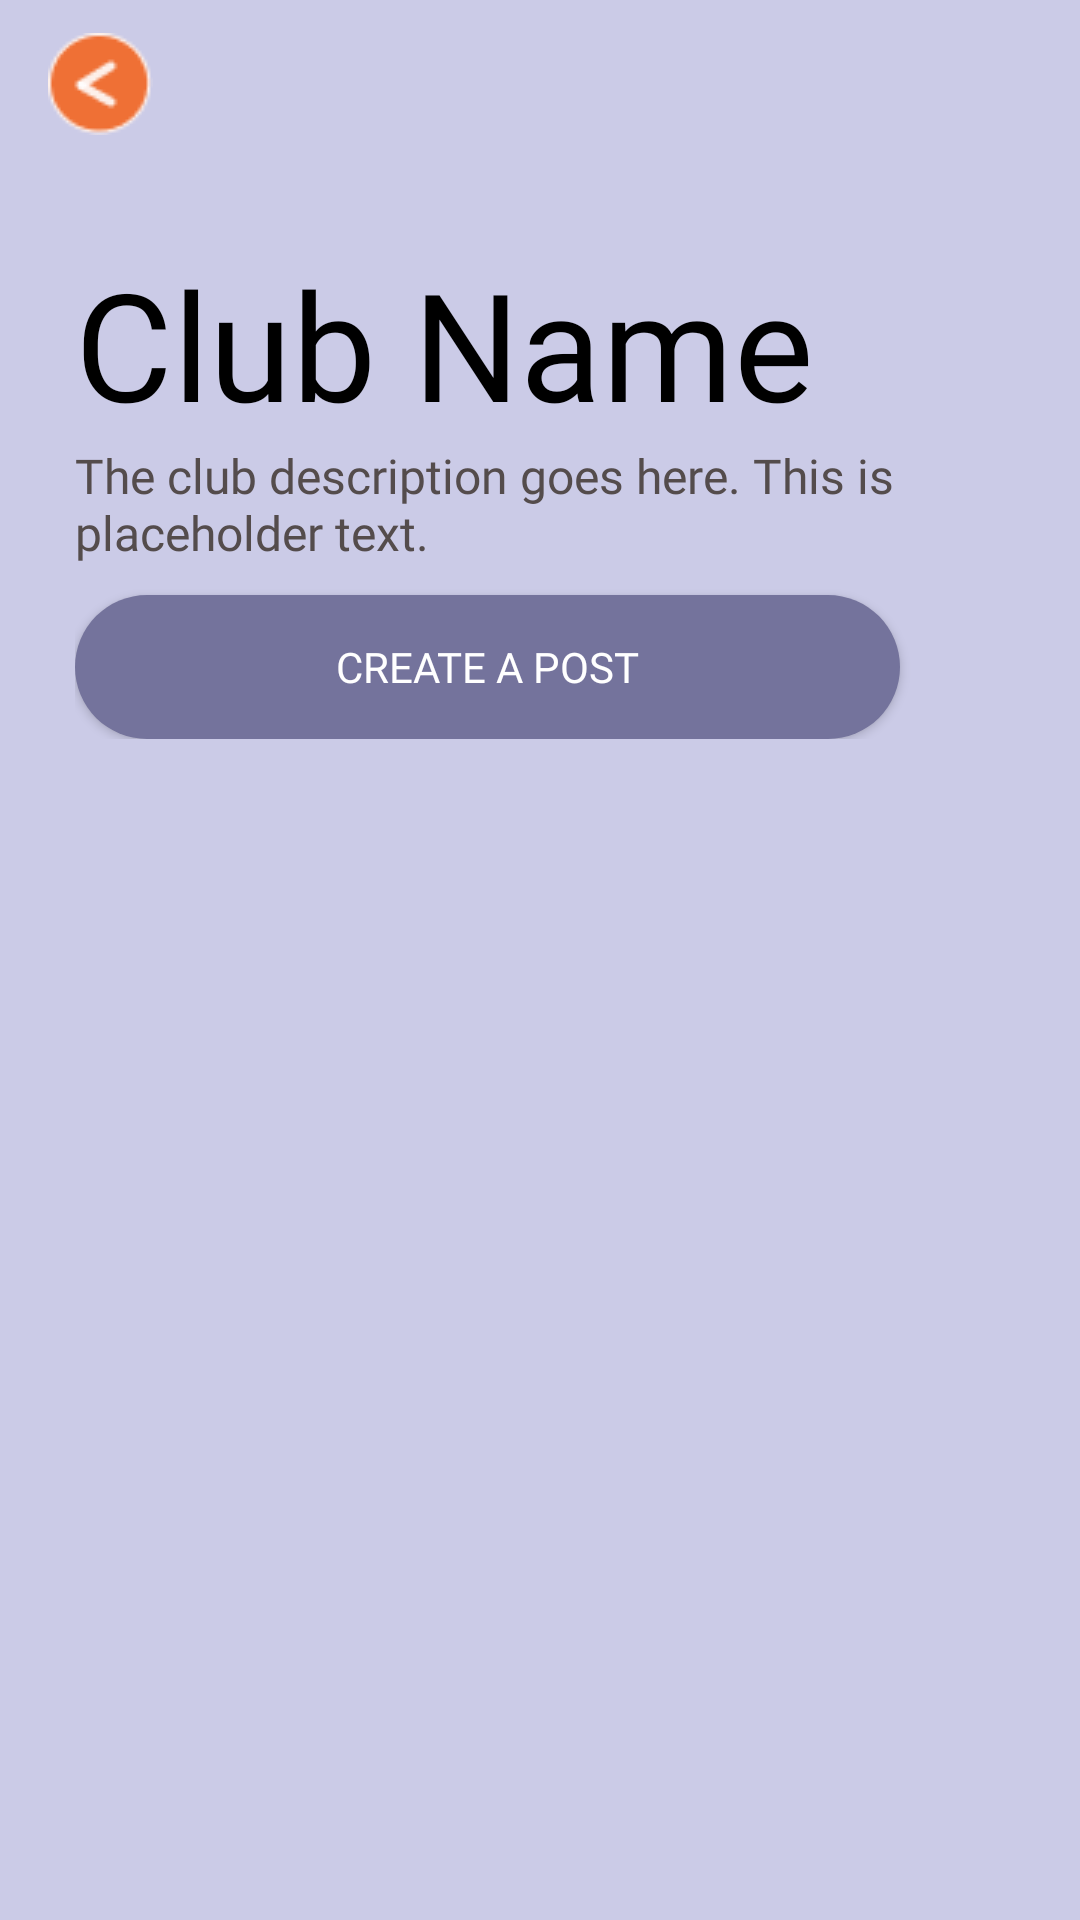

Where to tap for icons on this 1080×1920 app screen, as (x=x, y=y):
back: (x=99, y=83)
